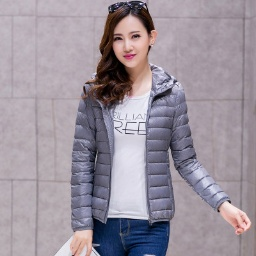face: (97, 1, 158, 85)
